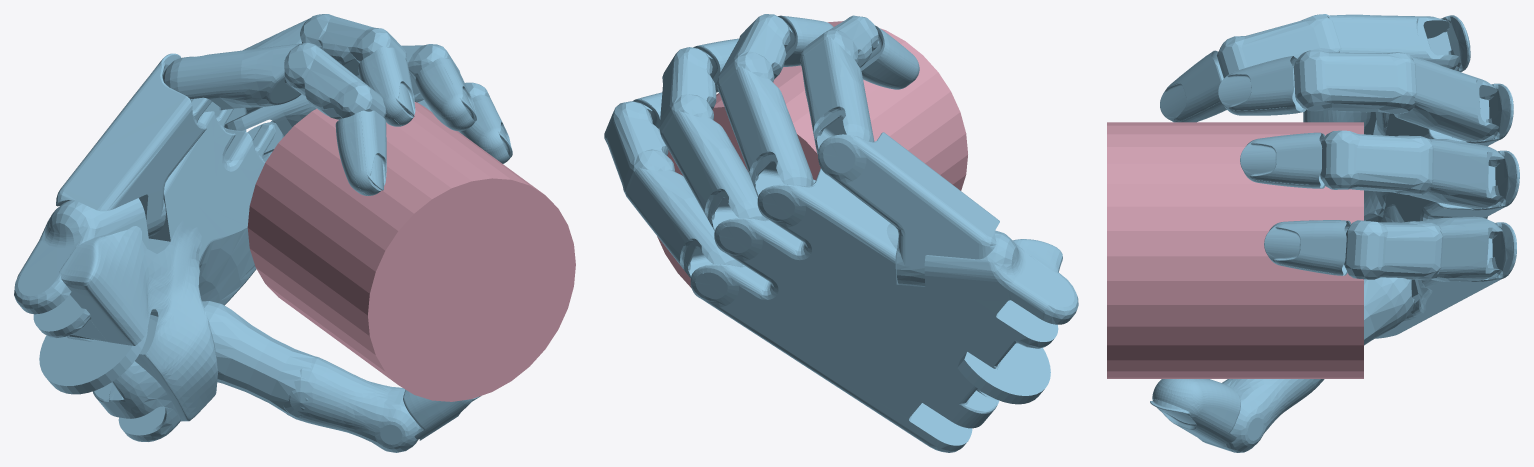
File: ShadowHand_contactdb+cylinder_medium_mesh.glb
3 renders of one model, left to right at view 1: azimuth 30°, elevation 25°; view 2: azimuth 150°, elevation 25°; view 3: azimuth 270°, elevation 25°, orthographic. The views are drawn at different scales.
Visible parts, largest first — view 1: world; view 2: world; view 3: world.
Part boxes in pixels (box(x1,y1,x2,y2)): world: box(14, 14, 575, 452); world: box(604, 14, 1078, 452); world: box(1107, 14, 1519, 452).
Bounding box in the file's own units: 0.1835 × 0.1397 × 0.1286.
